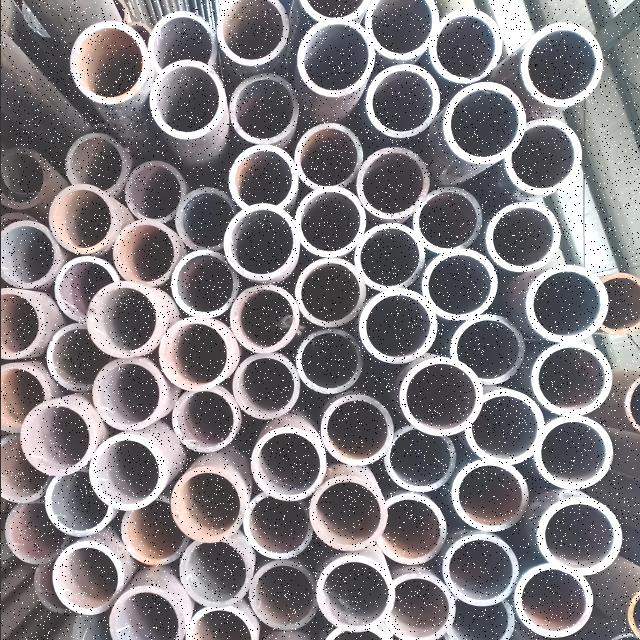pipe: (71, 21, 147, 101), (450, 82, 524, 162), (539, 501, 623, 571), (529, 266, 605, 342), (532, 342, 610, 416), (513, 566, 595, 636), (150, 57, 218, 141), (528, 24, 601, 102), (510, 114, 582, 192), (300, 18, 370, 98), (223, 206, 296, 282), (90, 435, 166, 508), (468, 388, 542, 462), (362, 288, 436, 362), (534, 418, 612, 488), (400, 359, 480, 427), (316, 557, 392, 628), (430, 8, 502, 82), (310, 476, 384, 548), (452, 460, 528, 530), (182, 538, 254, 610), (449, 315, 522, 386), (358, 144, 428, 216), (422, 251, 496, 319), (366, 66, 440, 134), (248, 428, 326, 492), (321, 396, 391, 466), (172, 471, 242, 541), (50, 544, 118, 616), (21, 403, 95, 469), (488, 204, 560, 270), (376, 495, 446, 562), (385, 424, 453, 492), (232, 74, 298, 144), (234, 282, 298, 354), (249, 559, 313, 631), (297, 187, 363, 255), (90, 286, 158, 352), (382, 575, 452, 639), (45, 471, 115, 535), (215, 1, 286, 64), (296, 121, 362, 188), (163, 323, 229, 389), (228, 146, 296, 210), (358, 222, 420, 292), (121, 501, 188, 565), (172, 250, 235, 318), (446, 537, 516, 598), (416, 188, 480, 254), (298, 260, 362, 326), (234, 354, 300, 418), (148, 9, 214, 72), (51, 260, 118, 322), (51, 183, 110, 253), (108, 586, 182, 640), (245, 494, 307, 558), (96, 362, 158, 426), (296, 332, 360, 392), (122, 162, 186, 222), (174, 392, 234, 454), (370, 1, 436, 57), (115, 224, 173, 284), (0, 222, 56, 284), (49, 329, 105, 391), (8, 504, 66, 563), (1, 438, 52, 503), (66, 133, 124, 190), (178, 188, 230, 250), (0, 367, 47, 434), (0, 290, 42, 360), (448, 596, 512, 640), (1, 147, 46, 209), (600, 273, 640, 336), (182, 608, 258, 640)
